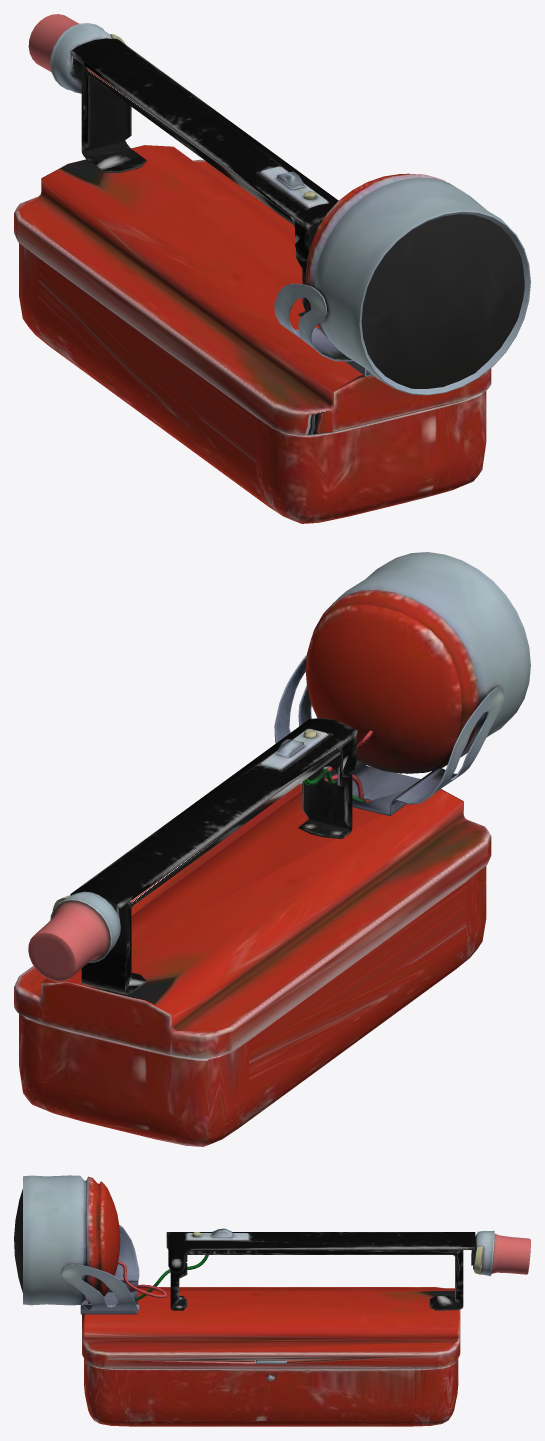
The model's file is vintage-flashlight.glb.
The picture shows the model from 3 angles, top to bottom: view 1: azimuth 30°, elevation 25°; view 2: azimuth 150°, elevation 25°; view 3: azimuth 270°, elevation 25°; orthographic projection. The views are drawn at different scales.
Parts seen in each view (by area): view 1: vintage_flashlight; view 2: vintage_flashlight; view 3: vintage_flashlight.
Boxes of the visible parts, <box> form: vintage_flashlight: <box>14,14,530,523</box>; vintage_flashlight: <box>14,552,530,1146</box>; vintage_flashlight: <box>14,1175,530,1426</box>.
Size of the model in its own units: 0.0959 by 0.1443 by 0.3054.
Materials: 2 (2 with a texture image).
